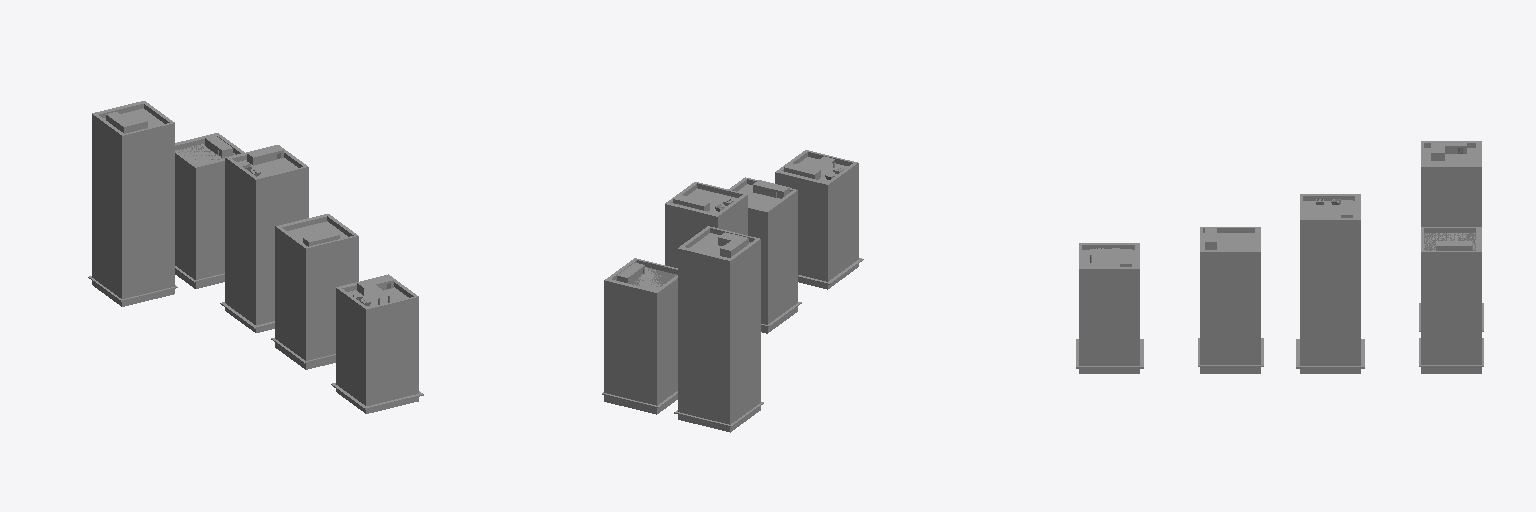
File: CITY.obj
3 renders of one model, left to right at view 1: azimuth 30°, elevation 25°; view 2: azimuth 150°, elevation 25°; view 3: azimuth 270°, elevation 25°, orthographic.
Parts seen in each view (by area): view 1: Cube.004_Cube.000, Cube.003_Cube.005, Cube.005_Cube.007, Cube.009_Cube.011, Cube.000_Cube.002, Cube.001; view 2: Cube.000_Cube.002, Cube.001, Cube.005_Cube.007, Cube.004_Cube.000, Cube.009_Cube.011, Cube.003_Cube.005; view 3: Cube.003_Cube.005, Cube.009_Cube.011, Cube.000_Cube.002, Cube.005_Cube.007, Cube.004_Cube.000, Cube.001.
Boxes of the visible parts, x1,y1,x2,y2 form: Cube.004_Cube.000: [88, 101, 177, 306]; Cube.003_Cube.005: [220, 145, 308, 332]; Cube.005_Cube.007: [331, 274, 423, 413]; Cube.009_Cube.011: [271, 214, 358, 369]; Cube.000_Cube.002: [175, 133, 244, 288]; Cube.001: [91, 101, 176, 299]; Cube.000_Cube.002: [602, 258, 677, 414]; Cube.001: [678, 227, 762, 425]; Cube.005_Cube.007: [775, 150, 863, 289]; Cube.004_Cube.000: [674, 226, 763, 432]; Cube.009_Cube.011: [728, 177, 801, 333]; Cube.003_Cube.005: [665, 182, 747, 267]; Cube.003_Cube.005: [1296, 194, 1364, 373]; Cube.009_Cube.011: [1198, 227, 1263, 373]; Cube.000_Cube.002: [1419, 227, 1483, 373]; Cube.005_Cube.007: [1076, 243, 1143, 373]; Cube.004_Cube.000: [1419, 141, 1483, 331]; Cube.001: [1419, 141, 1483, 330].
Bounding box in the file's own units: 4.96 × 6.29 × 13.38.